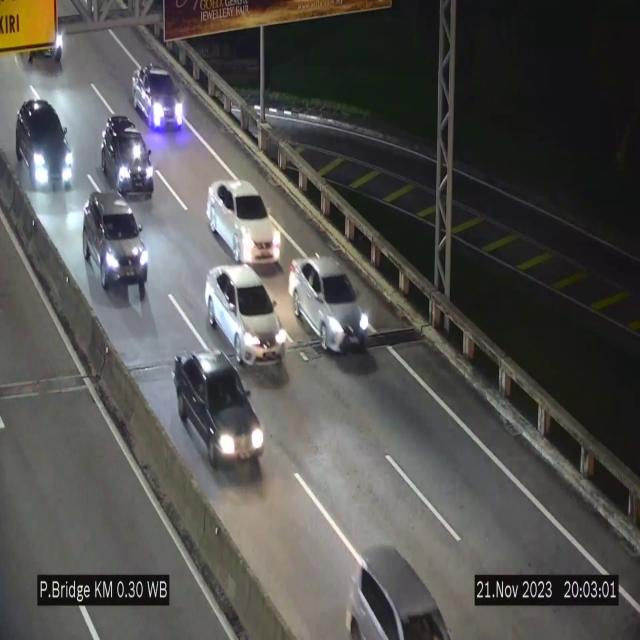Car: (172, 349, 268, 472), (204, 260, 288, 371), (286, 252, 371, 355), (204, 172, 284, 268), (80, 191, 149, 297), (14, 94, 74, 192), (99, 112, 155, 200), (130, 61, 187, 136)
